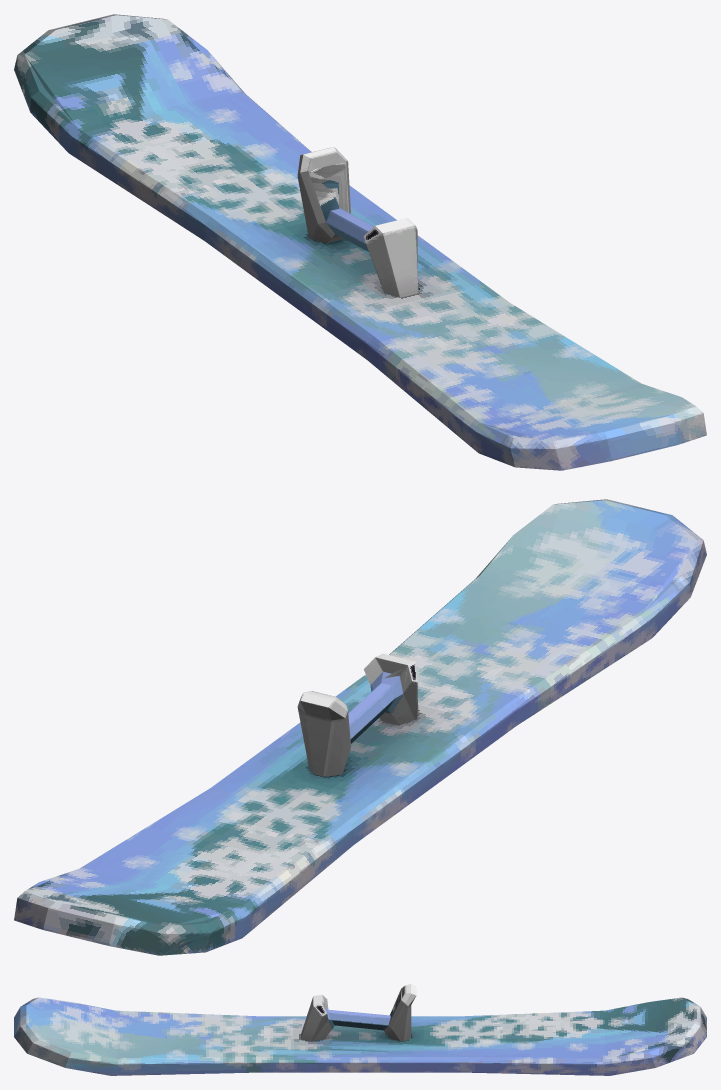
File: item_snowboard_4.glb
3 renders of one model, top to bottom at view 1: azimuth 30°, elevation 25°; view 2: azimuth 150°, elevation 25°; view 3: azimuth 270°, elevation 25°, orthographic. The views are drawn at different scales.
Parts seen in each view (by area): view 1: Snowboard; view 2: Snowboard; view 3: Snowboard.
Part boxes in pixels (left/top/right/bottom): Snowboard: left=14, top=14, right=706, bottom=470; Snowboard: left=14, top=499, right=706, bottom=955; Snowboard: left=14, top=984, right=706, bottom=1075.
Bounding box in the file's own units: 0.3666 × 0.198 × 2.01.
1 material, 1 textured.
